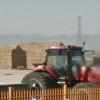Tractor: (23, 42, 100, 100)
